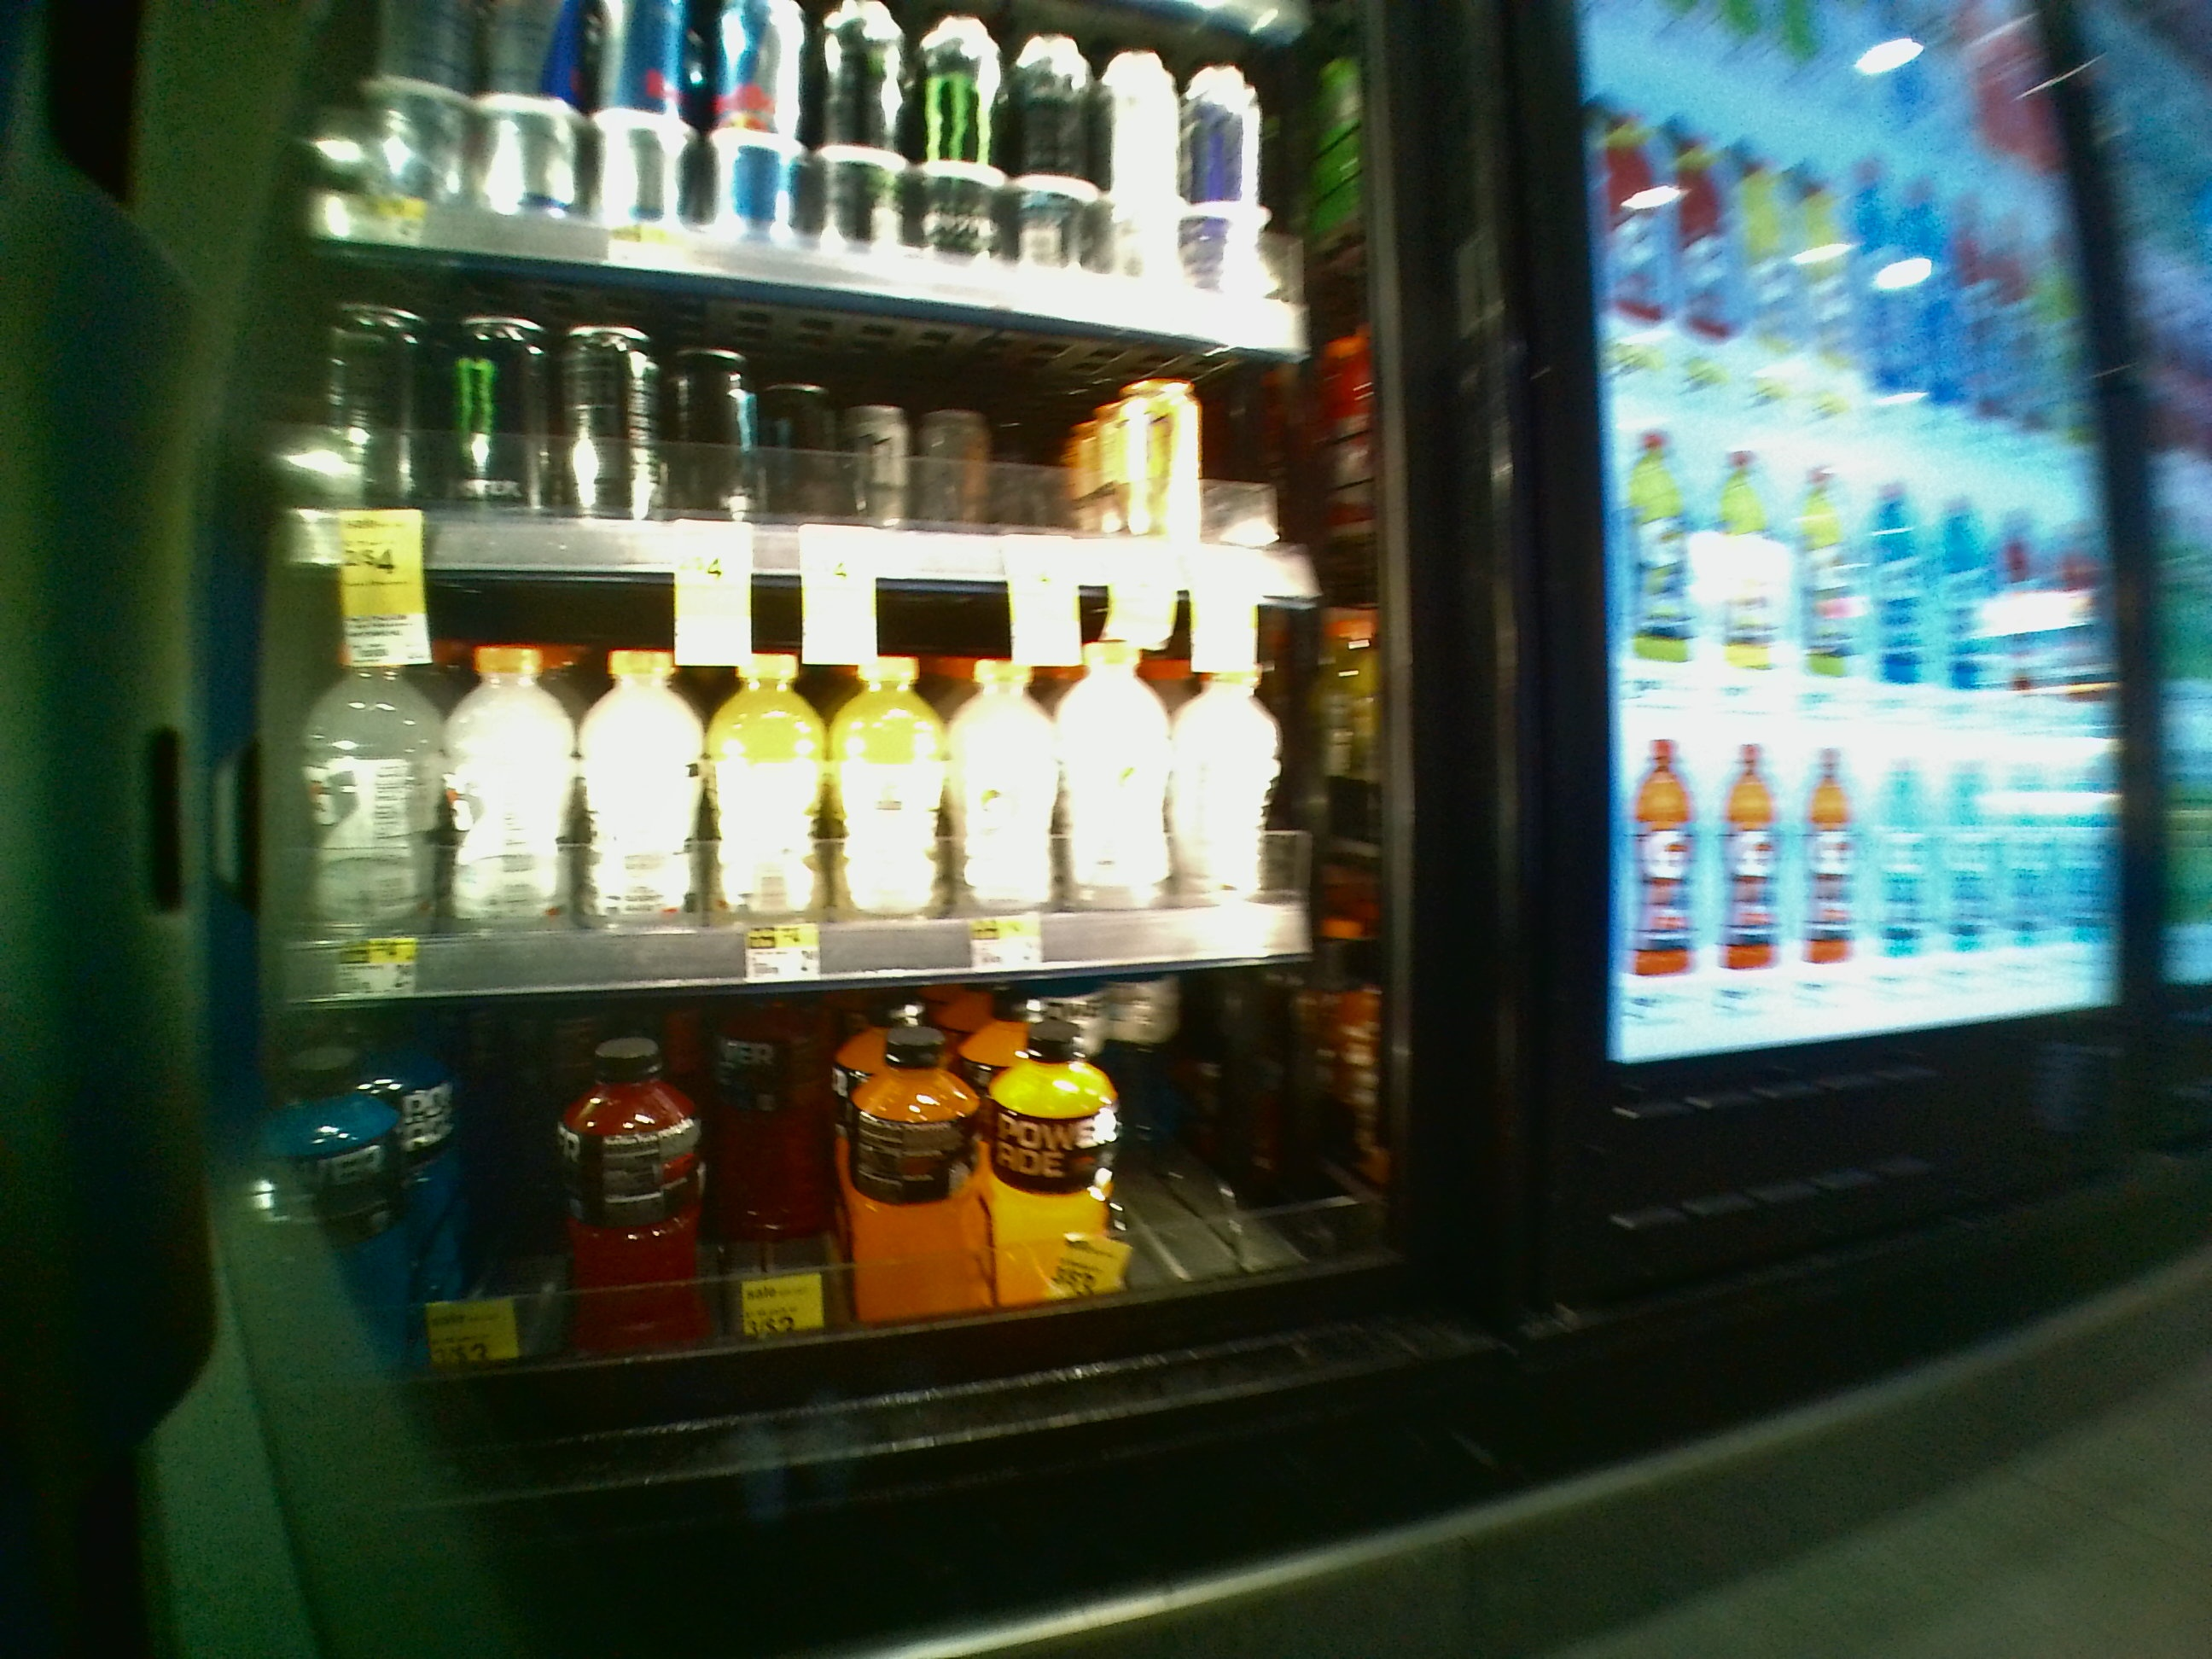shelf: (268, 559, 1400, 985)
